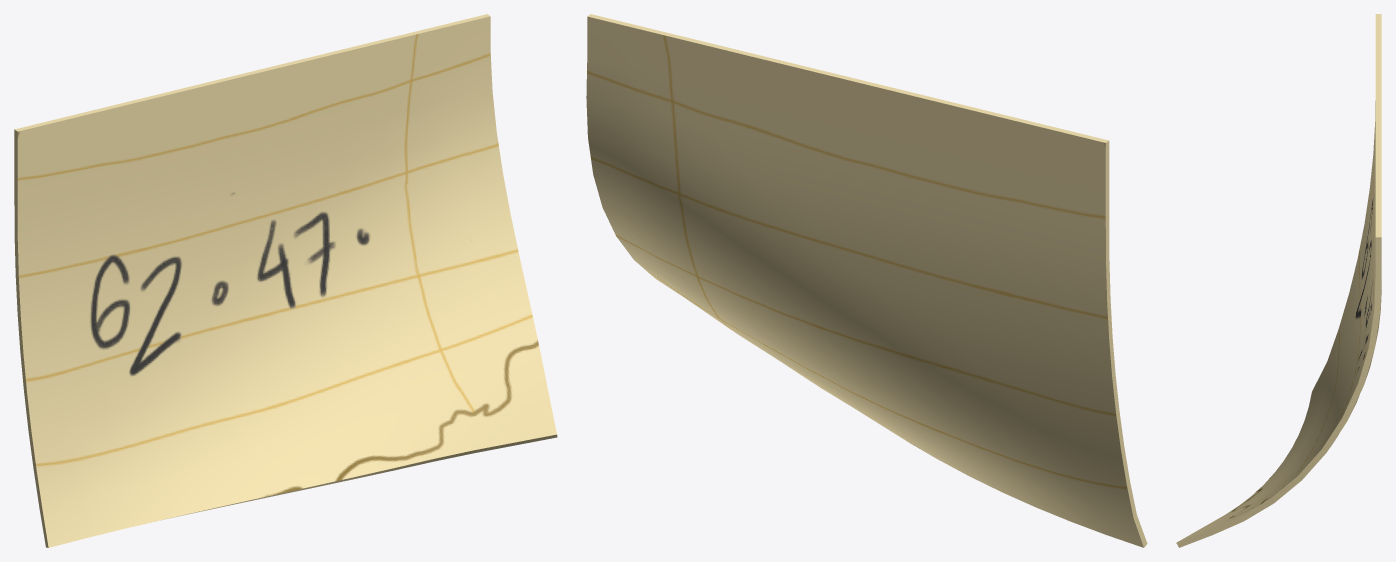
Rendered from inventario.fbx.
3 views of the same model, side by side, from view 1: azimuth 30°, elevation 25°; view 2: azimuth 150°, elevation 25°; view 3: azimuth 270°, elevation 25° (orthographic). The views are drawn at different scales.
Visible parts, largest first — view 1: posit; view 2: posit; view 3: posit.
Part boxes in pixels (x1,y1,x2,y2): posit: (14, 14, 557, 547); posit: (586, 14, 1147, 547); posit: (1176, 14, 1381, 547).
Bounding box in the file's own units: 11.04 × 8.67 × 4.24.
Materials: 1 (1 with a texture image).
